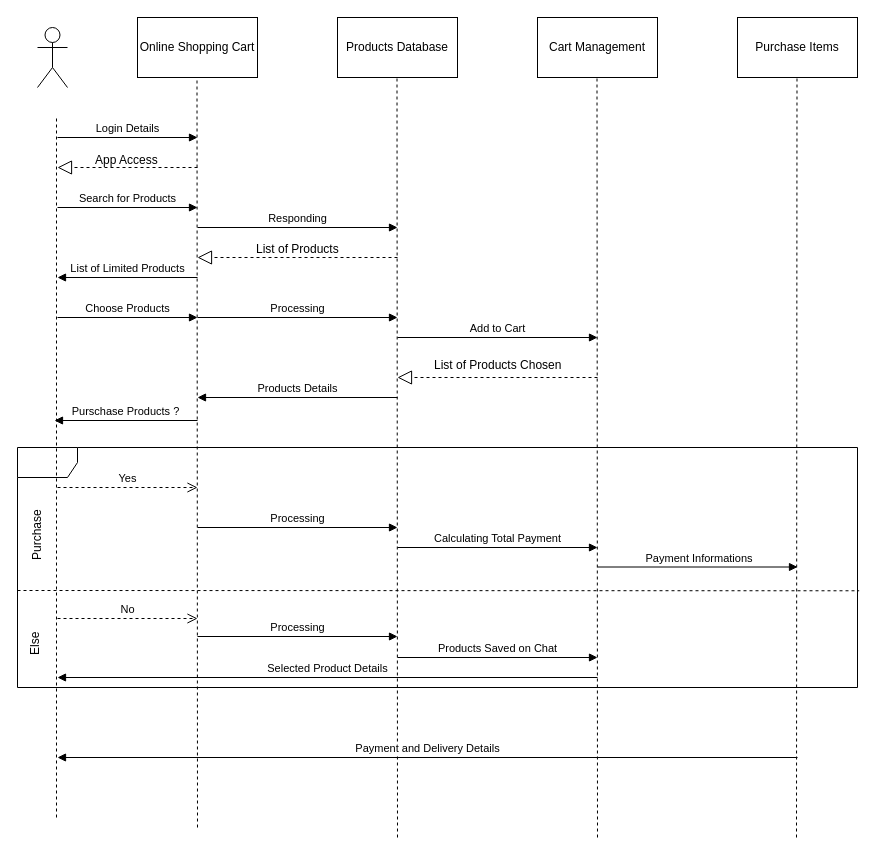
The diagram is 878 pixels wide and 856 high, and some of its shapes have lost their labels. Here are the shapes that lost their labels. From the top down, the box of each, then its label:
(36, 26, 68, 88): Customer
(16, 446, 858, 688): Alternative
